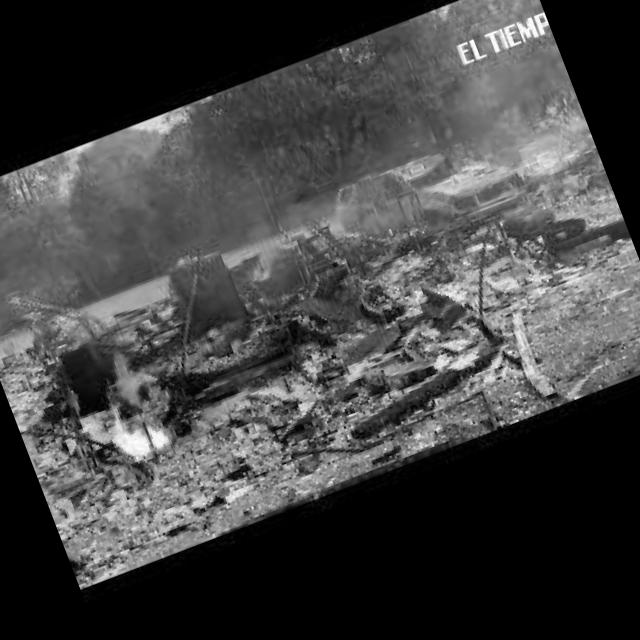fire: (100, 399, 170, 465), (108, 351, 147, 405), (244, 250, 276, 284)
